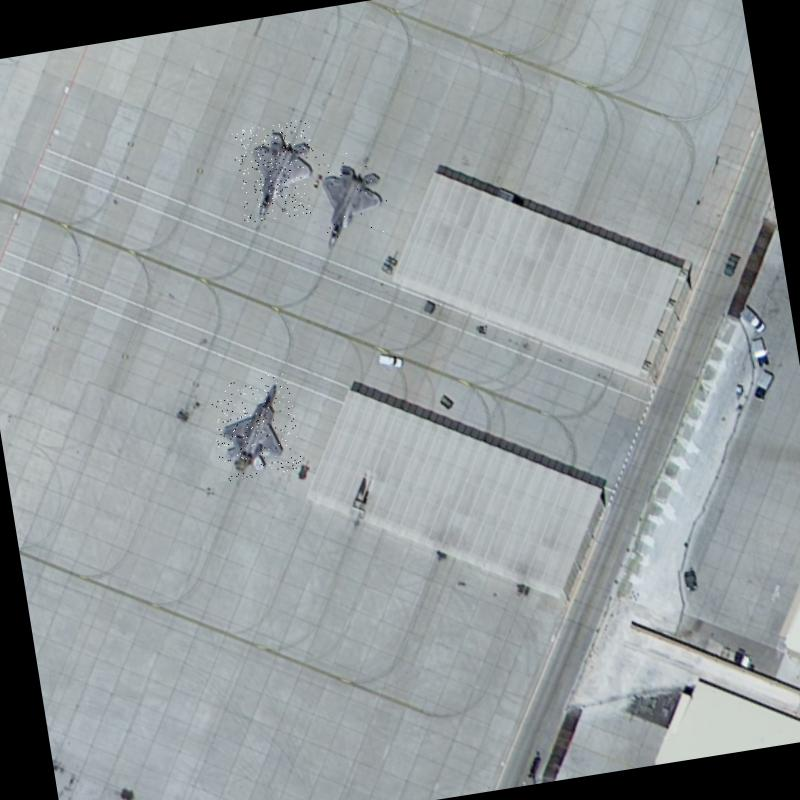A15: (301, 143, 400, 256), (207, 371, 303, 482), (230, 118, 324, 225)
